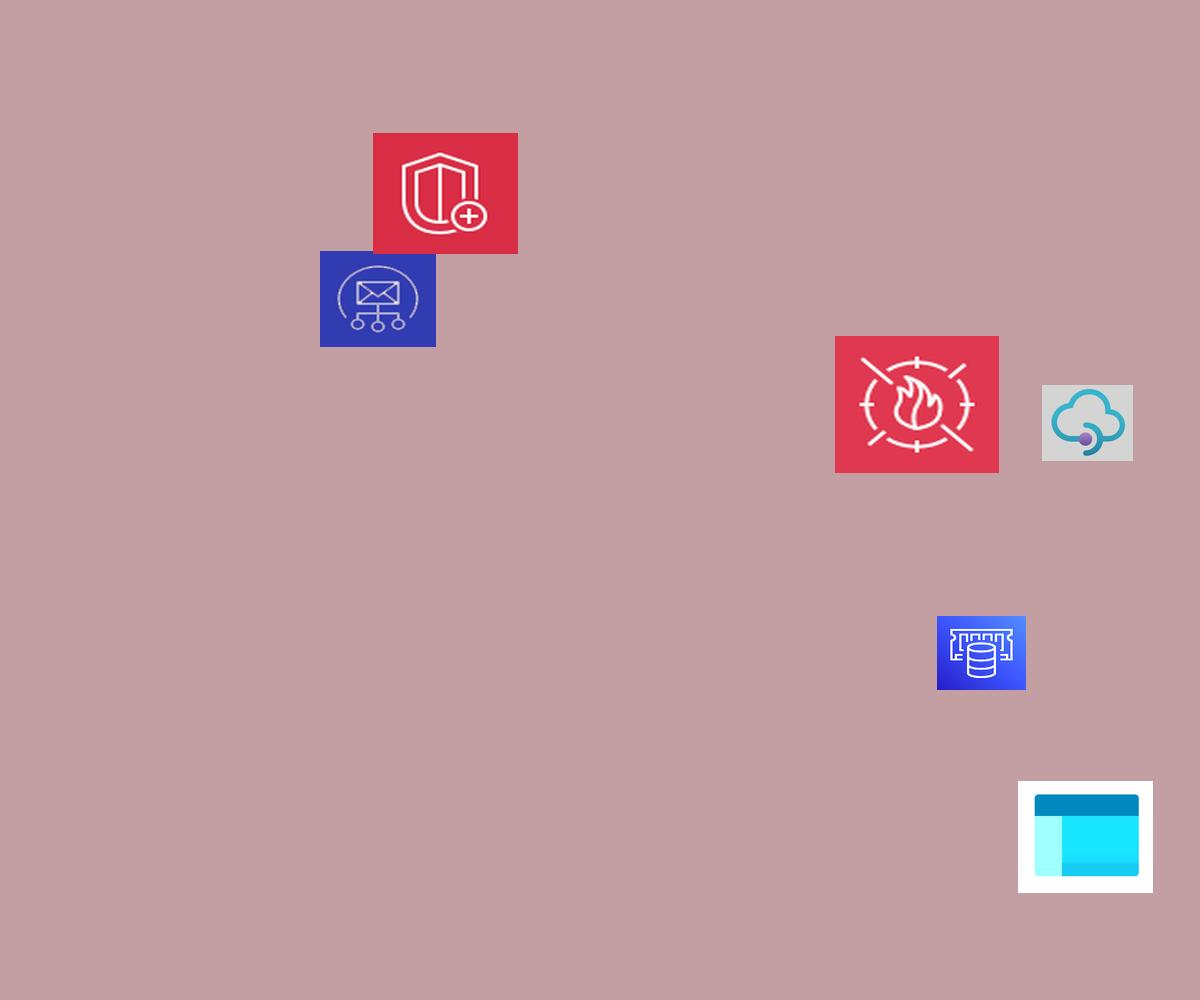AWS-ElastiCache: (937, 616, 1026, 690)
AWS-Shield: (373, 133, 518, 254)
AWS-Simple-Email-Service: (320, 251, 436, 347)
AWS-WAF: (835, 336, 999, 473)
Azure_api_gateway: (1042, 385, 1133, 461)
Azure_management-portal: (1018, 781, 1153, 893)
